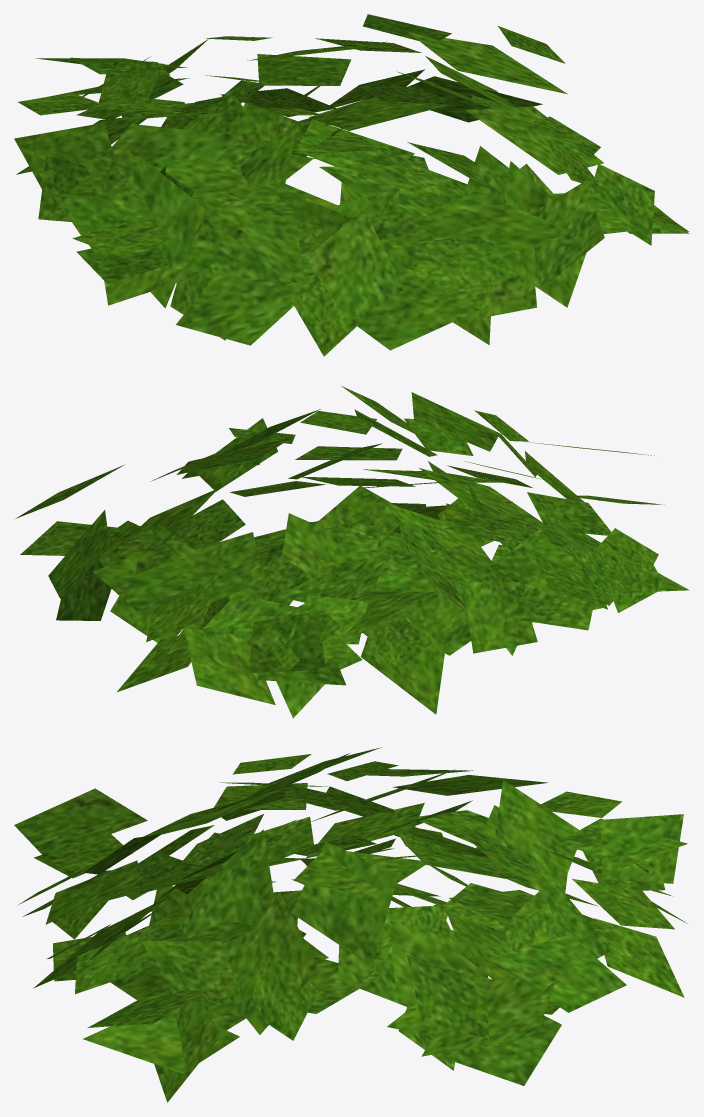
Rendered from groundcover_opaque.glb.
The picture shows the model from 3 angles, top to bottom: view 1: azimuth 30°, elevation 25°; view 2: azimuth 150°, elevation 25°; view 3: azimuth 270°, elevation 25°; orthographic projection. The views are drawn at different scales.
Visible parts, largest first — view 1: _MeshInstance3D_13; view 2: _MeshInstance3D_13; view 3: _MeshInstance3D_13.
Boxes of the visible parts, box(x1,y1,x2,y2) form: _MeshInstance3D_13: box(14, 14, 689, 356); _MeshInstance3D_13: box(15, 386, 689, 718); _MeshInstance3D_13: box(14, 747, 687, 1102).
Bounding box in the file's own units: 1.28 × 0.2807 × 1.29.
1 material, 1 textured.
